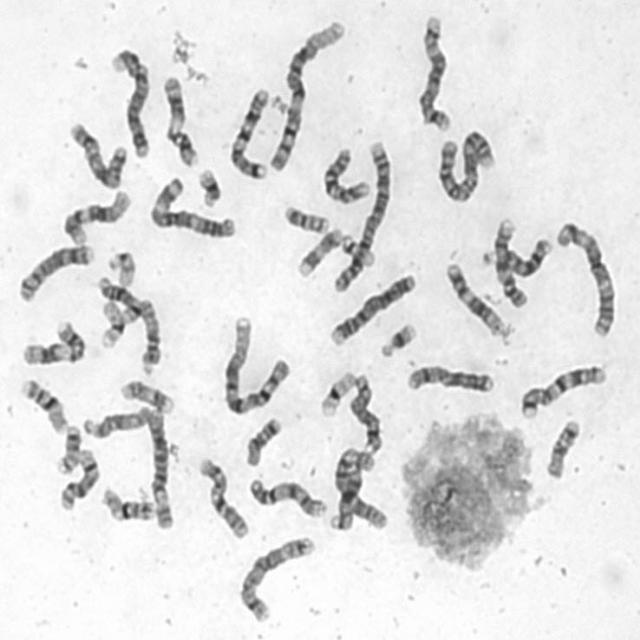A1: (266, 17, 346, 174), (217, 314, 292, 418)
A2: (331, 139, 393, 295), (434, 124, 498, 204)
A3: (552, 216, 616, 338), (146, 175, 236, 241)
B4: (326, 268, 416, 348), (106, 43, 152, 160)
B5: (232, 533, 318, 626), (414, 12, 452, 133)
C10: (192, 453, 250, 542), (320, 145, 372, 205)
C11: (160, 72, 198, 167), (18, 316, 87, 368)
C12: (443, 259, 506, 338), (59, 186, 132, 246)
C6: (330, 444, 390, 532), (141, 404, 176, 531)
C7: (516, 361, 610, 421), (226, 85, 272, 180)
C8: (14, 242, 95, 304), (347, 370, 384, 456)
C9: (245, 474, 327, 520), (490, 216, 528, 310)
D13: (478, 234, 552, 281), (326, 461, 363, 532)
D14: (54, 444, 100, 514), (95, 272, 142, 324)
D15: (81, 402, 151, 441), (133, 296, 161, 376)
E16: (18, 375, 68, 435), (95, 483, 156, 525)
E17: (293, 223, 343, 279), (118, 374, 176, 415)
E18: (540, 412, 581, 482), (239, 413, 281, 469)
F19: (314, 366, 357, 420), (95, 297, 126, 349)
F20: (280, 201, 331, 236), (52, 420, 81, 476)
G21: (375, 319, 417, 361), (195, 163, 225, 208)
G22: (338, 230, 378, 268), (104, 246, 136, 287)
X: (65, 120, 127, 189), (401, 361, 494, 397)
